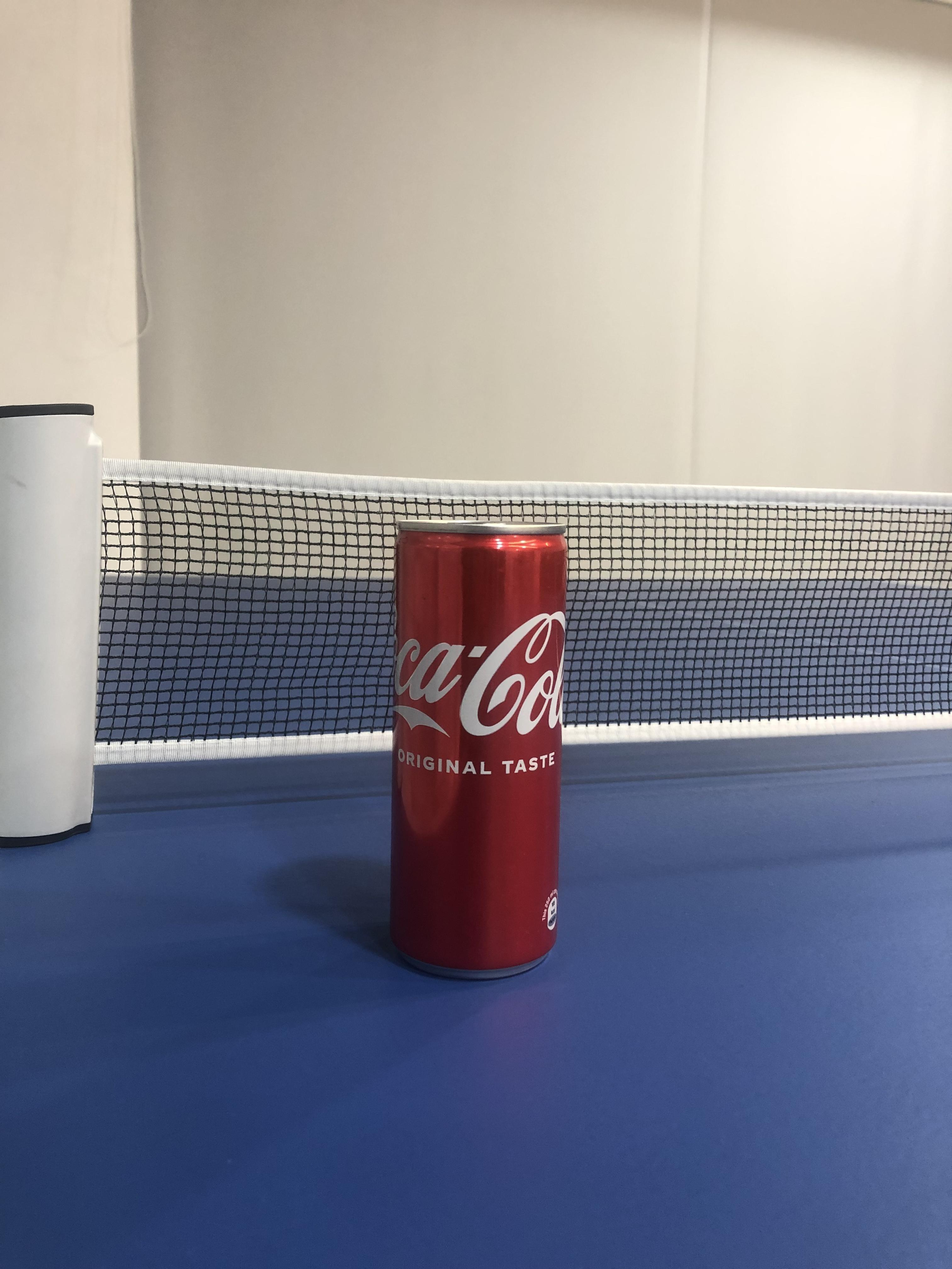tin can: (386, 514, 575, 984)
